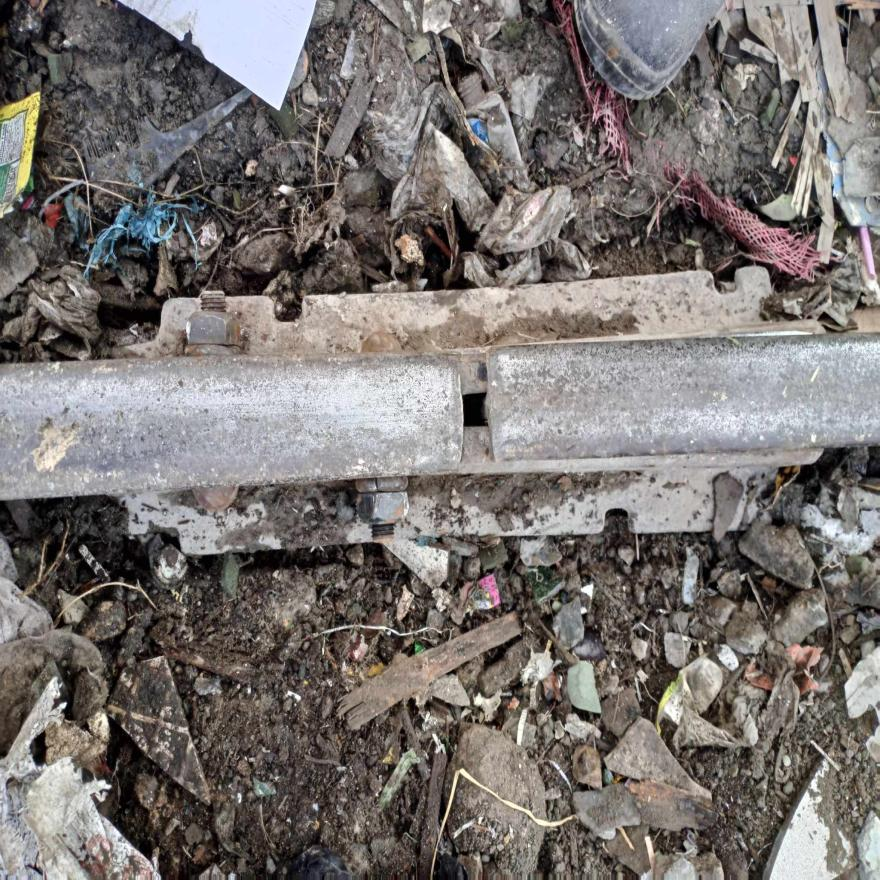railway-gap: (397, 323, 555, 505)
